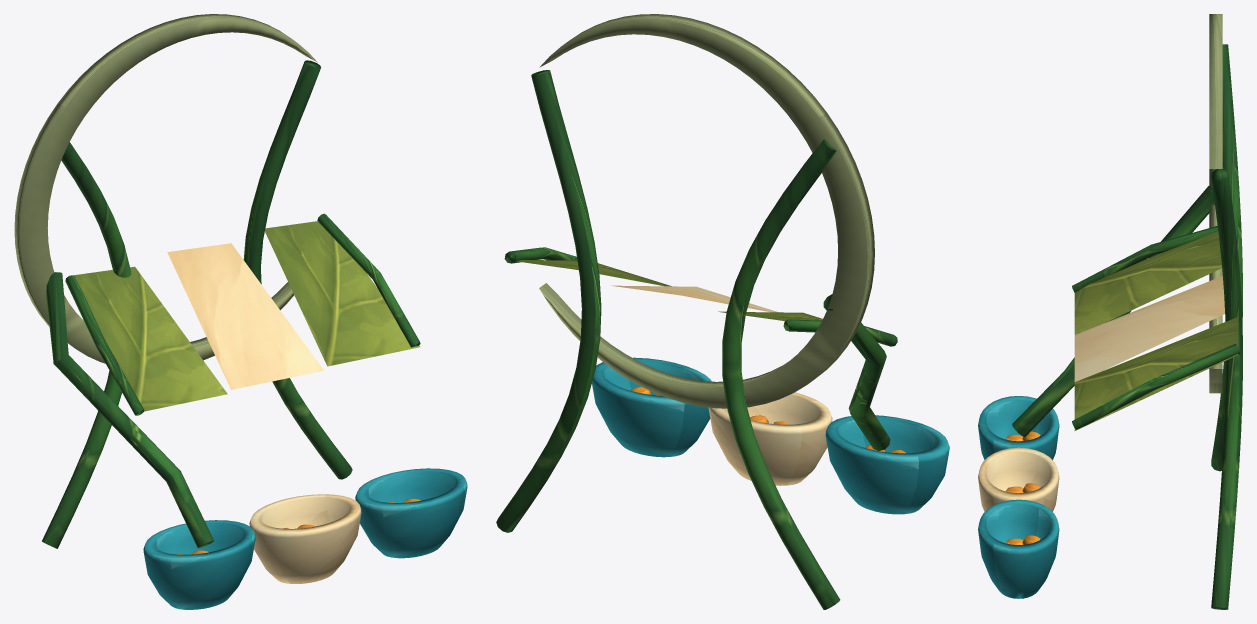
The model's file is 06_Bloomwalker参考_柔绘.glb.
3 renders of one model, left to right at view 1: azimuth 30°, elevation 25°; view 2: azimuth 150°, elevation 25°; view 3: azimuth 270°, elevation 25°, orthographic. The views are drawn at different scales.
Parts seen in each view (by area): view 1: moon_sorter; view 2: moon_sorter; view 3: moon_sorter.
Boxes of the visible parts, x1,y1,x2,y2 form: moon_sorter: (14,14,467,609); moon_sorter: (496,14,949,609); moon_sorter: (978,14,1242,609).
Size of the model in its own units: 1.08 by 1.48 by 0.7121.
Materials: 1 (1 with a texture image).
